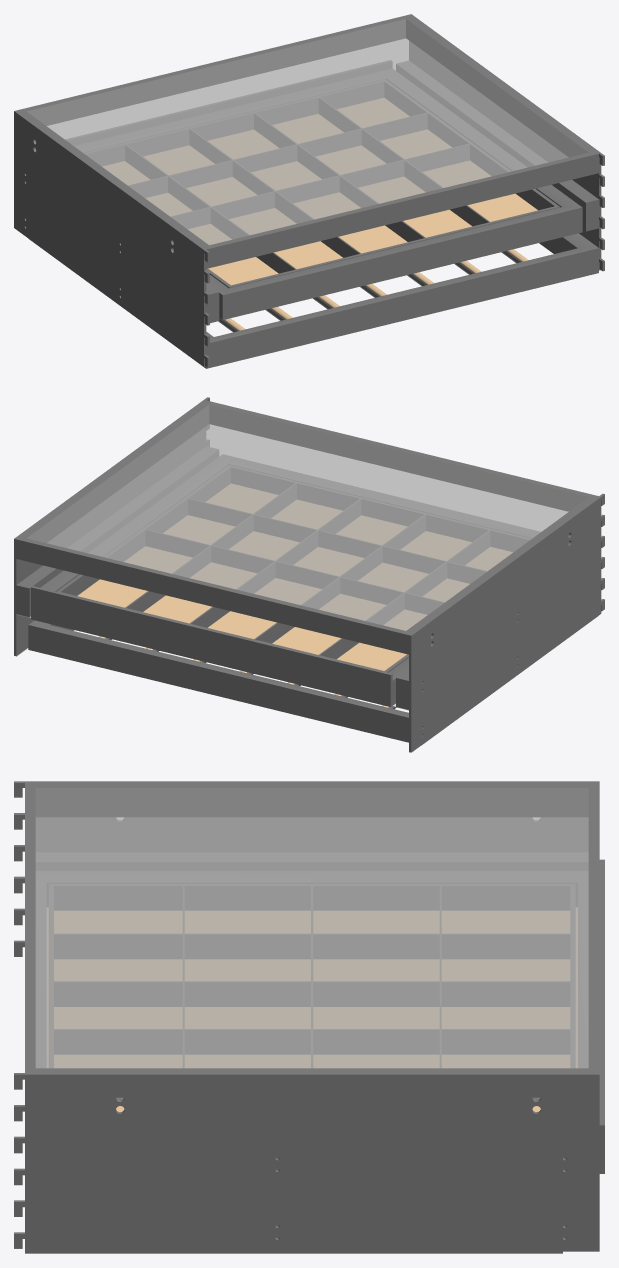
3 renders of one model, top to bottom at view 1: azimuth 30°, elevation 25°; view 2: azimuth 150°, elevation 25°; view 3: azimuth 270°, elevation 25°, orthographic. The views are drawn at different scales.
Parts seen in each view (by area): view 1: Geom3D (×5); view 2: Geom3D (×4); view 3: Geom3D (×4).
Part boxes in pixels (x1,y1,x2,y2): Geom3D (×5): (14,14,604,368); Geom3D (×4): (14,397,604,752); Geom3D (×4): (14,781,604,1253).
Size of the model in its own units: 0.6404 by 0.1838 by 0.545.
